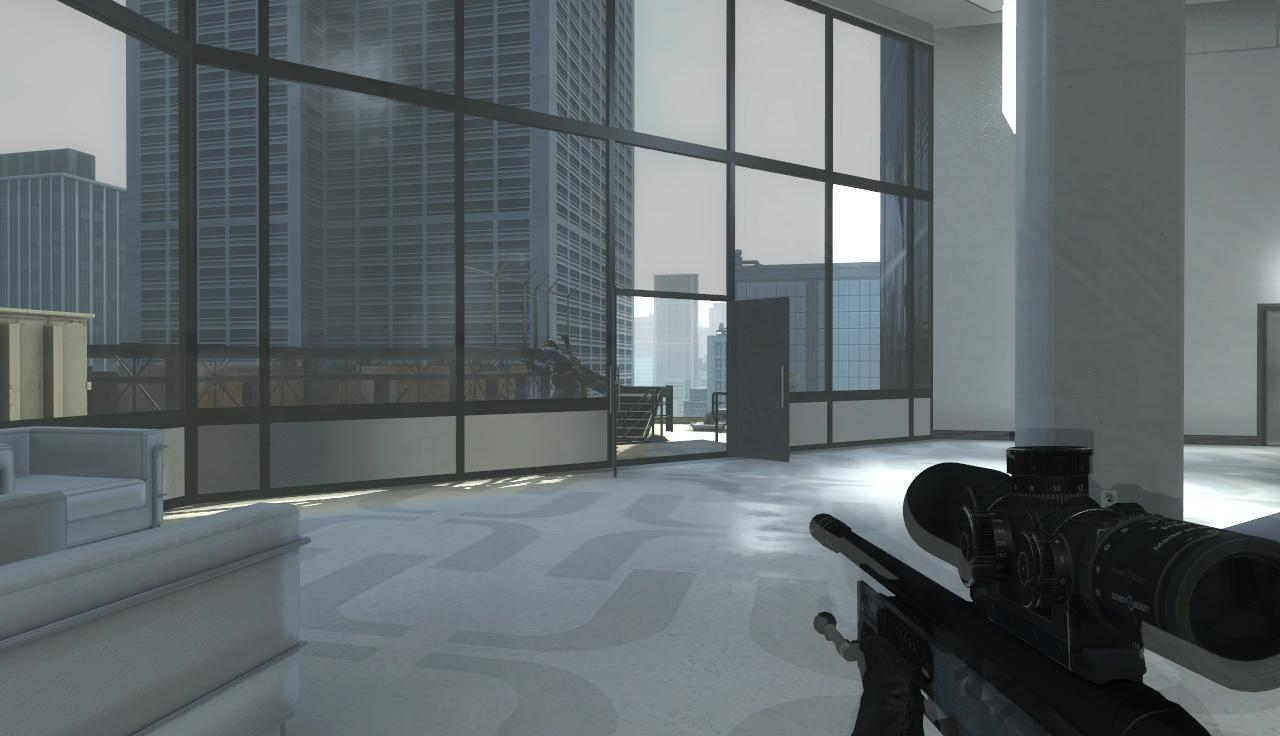ct: (542, 339, 576, 398)
cthead: (543, 339, 557, 348)
sniper: (800, 438, 1280, 736)
